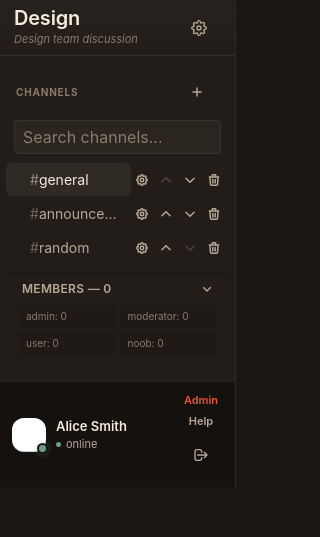
Test: ChannelsSidebar channel rows › shows channel delete errors inline
Click the button titled "Delete channel": (214, 180) [203,168,225,190]
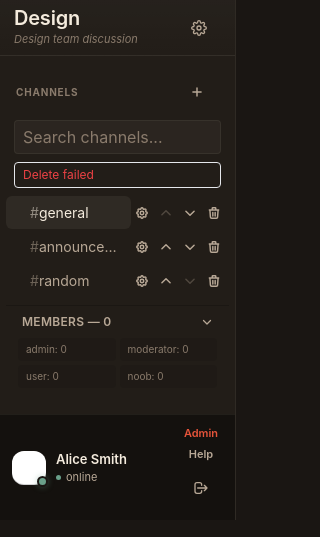
Result: the text with test id "channel-action-error" reads "Delete failed" at [23,167,94,182]
